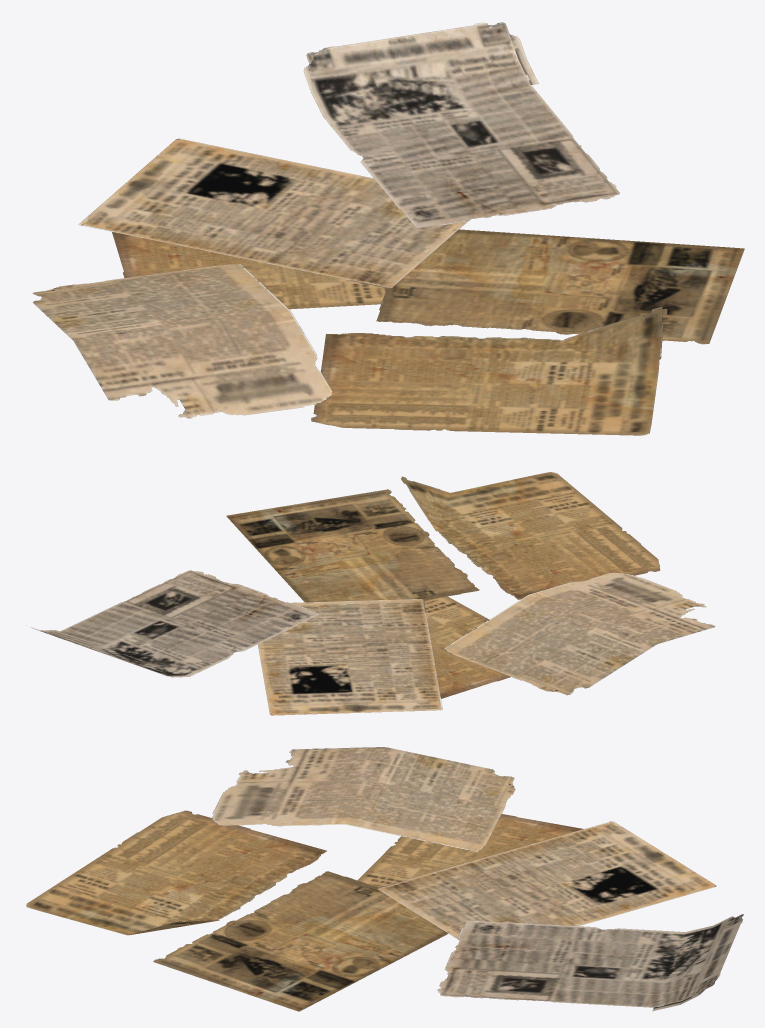
The model's file is Prop_PaperC.fbx.
The picture shows the model from 3 angles, top to bottom: view 1: azimuth 30°, elevation 25°; view 2: azimuth 150°, elevation 25°; view 3: azimuth 270°, elevation 25°; orthographic projection. The views are drawn at different scales.
Visible parts, largest first — view 1: Plane_003; view 2: Plane_003; view 3: Plane_003.
Boxes of the visible parts, x1,y1,x2,y2 form: Plane_003: (32,22,744,435); Plane_003: (31,472,715,715); Plane_003: (26,747,743,1011).
Size of the model in its own units: 3.31 by 0.2016 by 3.78.
